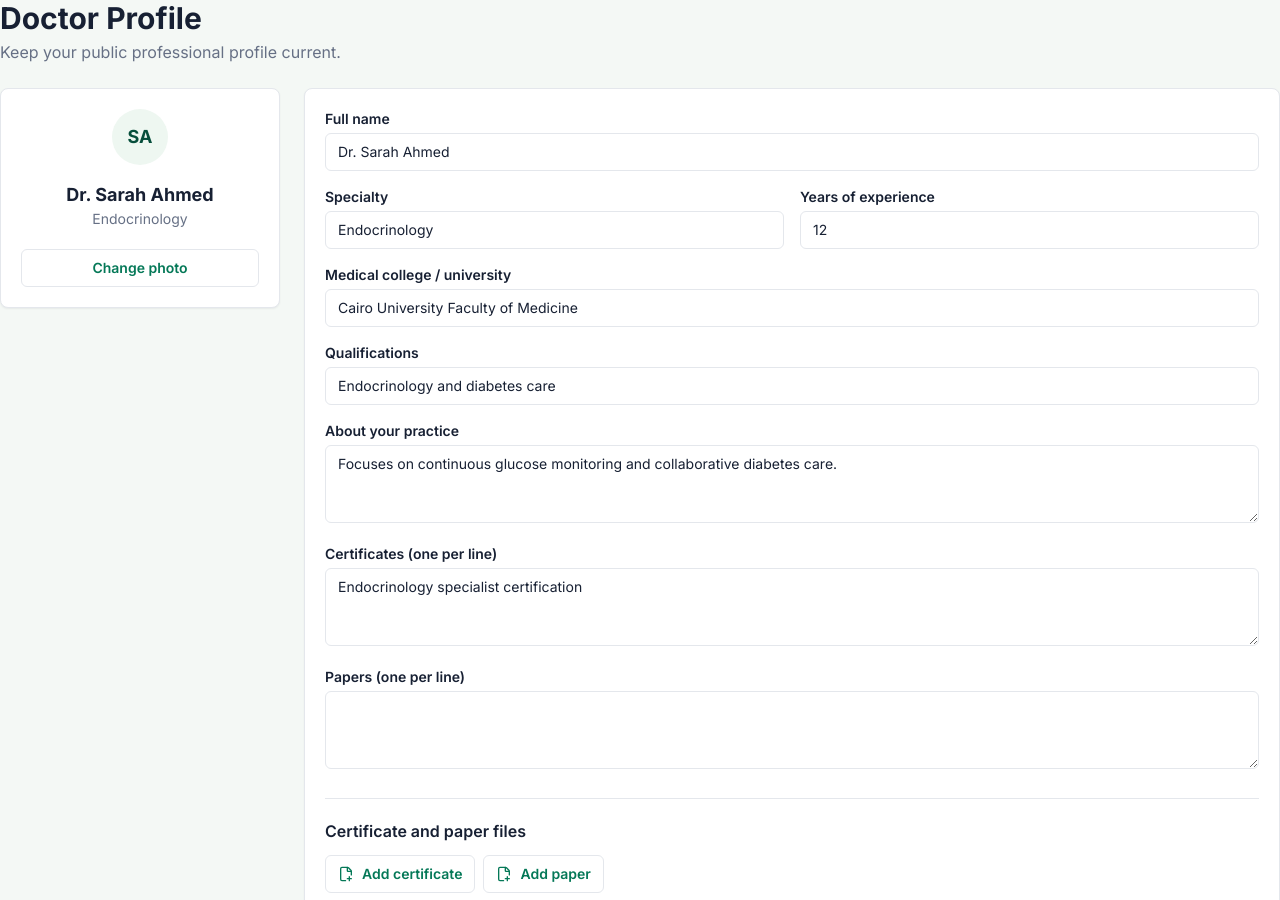
Scenario: doctor profile preserves professional fields and saves edits
This screenshot has width=1280, height=900.
Replace the text in the number field labelled "Years of experience" with "13" at point(1030, 230), box [800,211,1259,249]
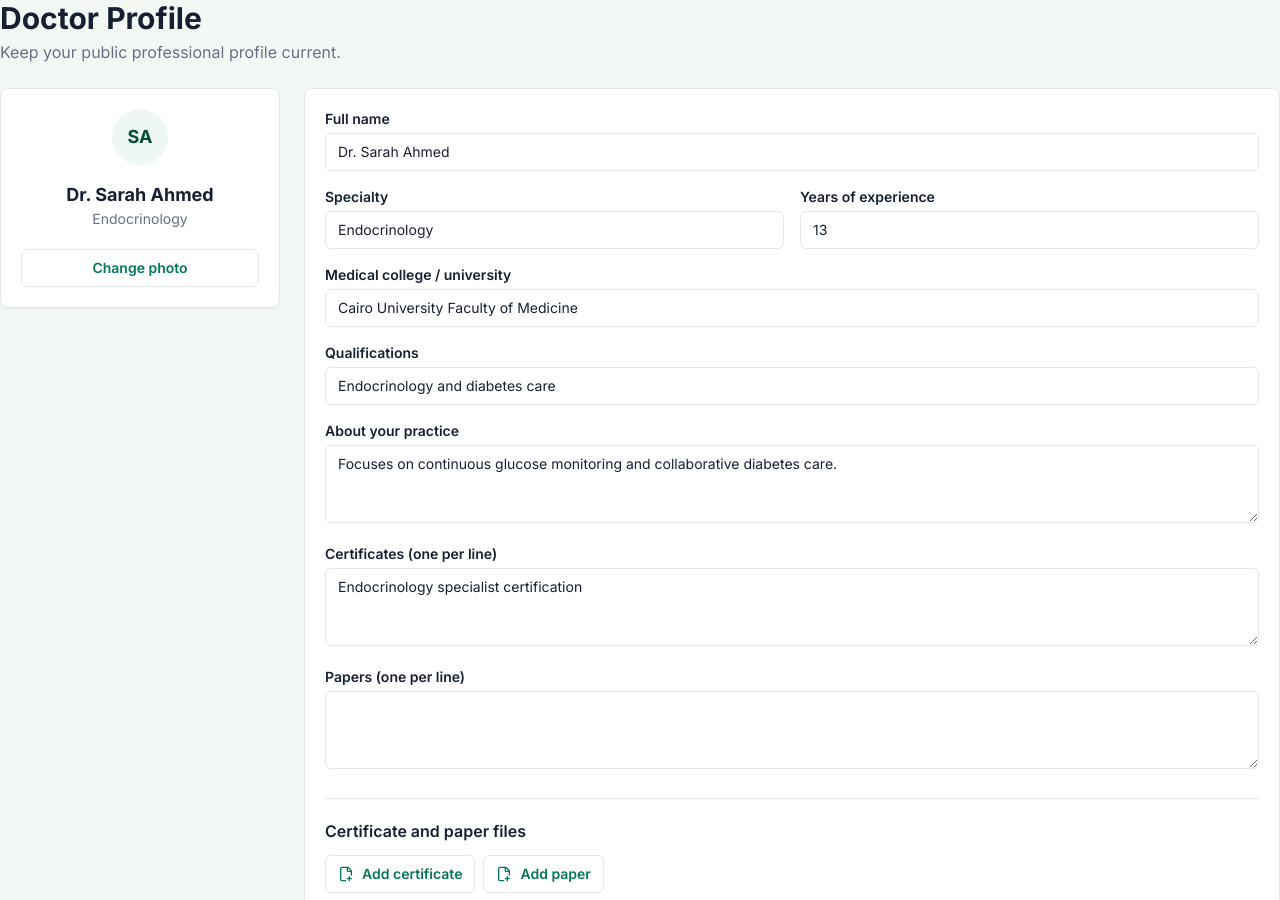
Replace the text in the text box labelled "About your practice" with "Updated diabetes care profile." at point(792, 484), box [325,445,1259,523]
(page scrolled)
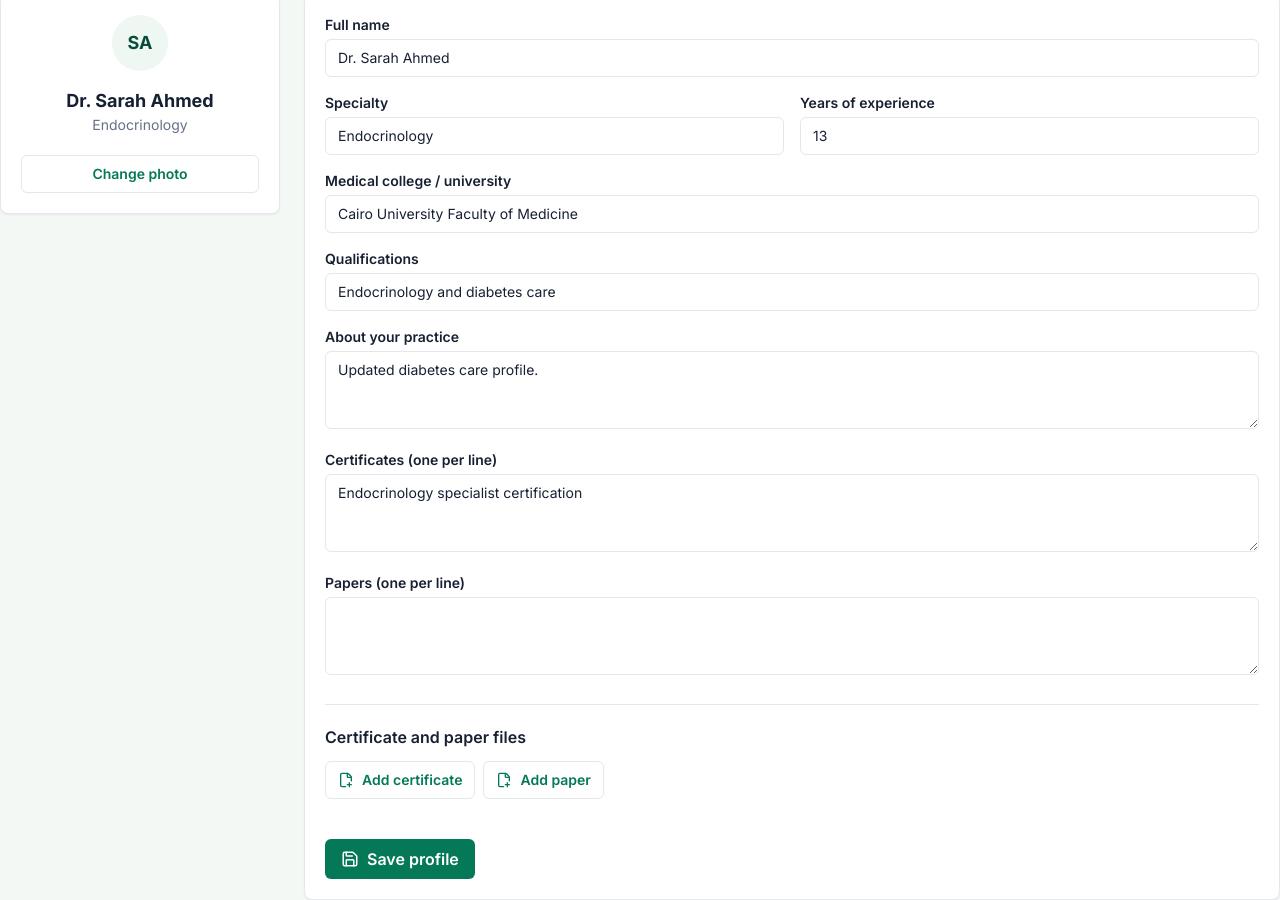
Click the button "Save profile".
click(400, 859)  # box [325,839,475,879]
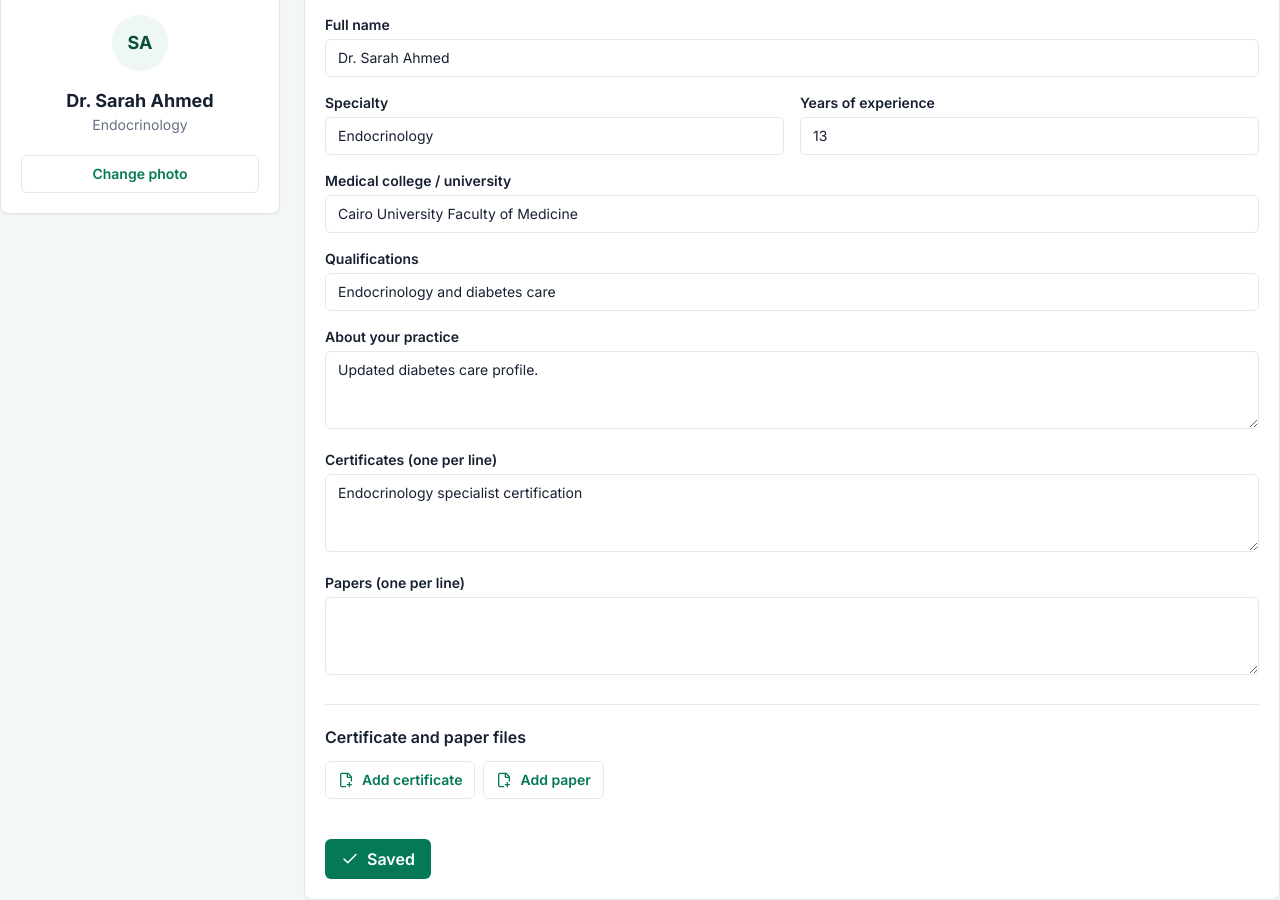
Check: the button "Saved" is shown, box [325,839,431,879]
